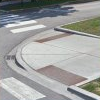crosswalk: (0, 76, 47, 100), (0, 14, 45, 33)
